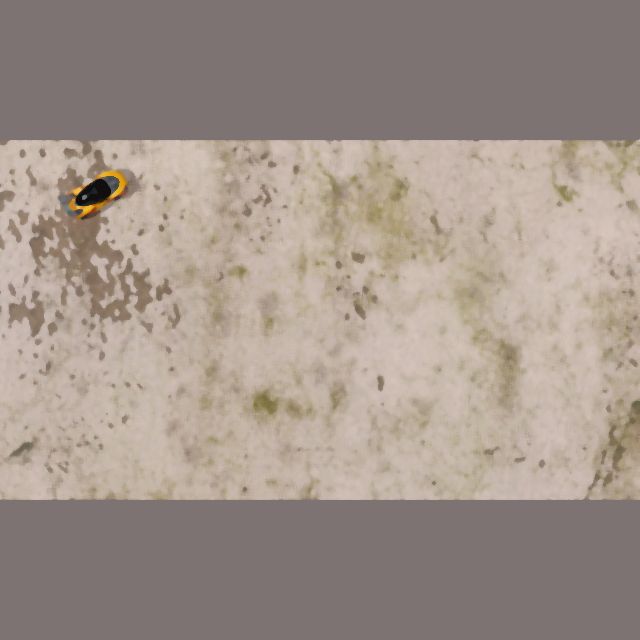car: (54, 162, 133, 225)
